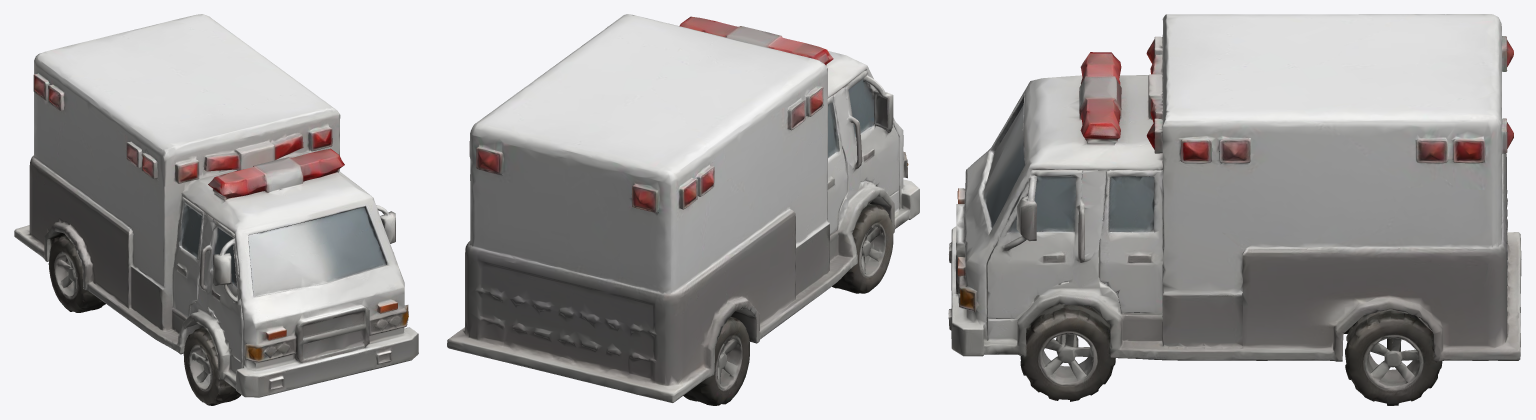
Rendered from ambulancia.glb.
3 renders of one model, left to right at view 1: azimuth 30°, elevation 25°; view 2: azimuth 150°, elevation 25°; view 3: azimuth 270°, elevation 25°, orthographic. The views are drawn at different scales.
Visible parts, largest first — view 1: tripo_node_ad2904d9-c384-4748-b7bd-6c441ba6ae68; view 2: tripo_node_ad2904d9-c384-4748-b7bd-6c441ba6ae68; view 3: tripo_node_ad2904d9-c384-4748-b7bd-6c441ba6ae68.
Part boxes in pixels (x1,y1,x2,y2): tripo_node_ad2904d9-c384-4748-b7bd-6c441ba6ae68: (14, 14, 418, 405); tripo_node_ad2904d9-c384-4748-b7bd-6c441ba6ae68: (447, 14, 919, 405); tripo_node_ad2904d9-c384-4748-b7bd-6c441ba6ae68: (948, 14, 1521, 405).
Bounding box in the file's own units: 3.01 × 3.3 × 6.
Materials: 1 (1 with a texture image).
